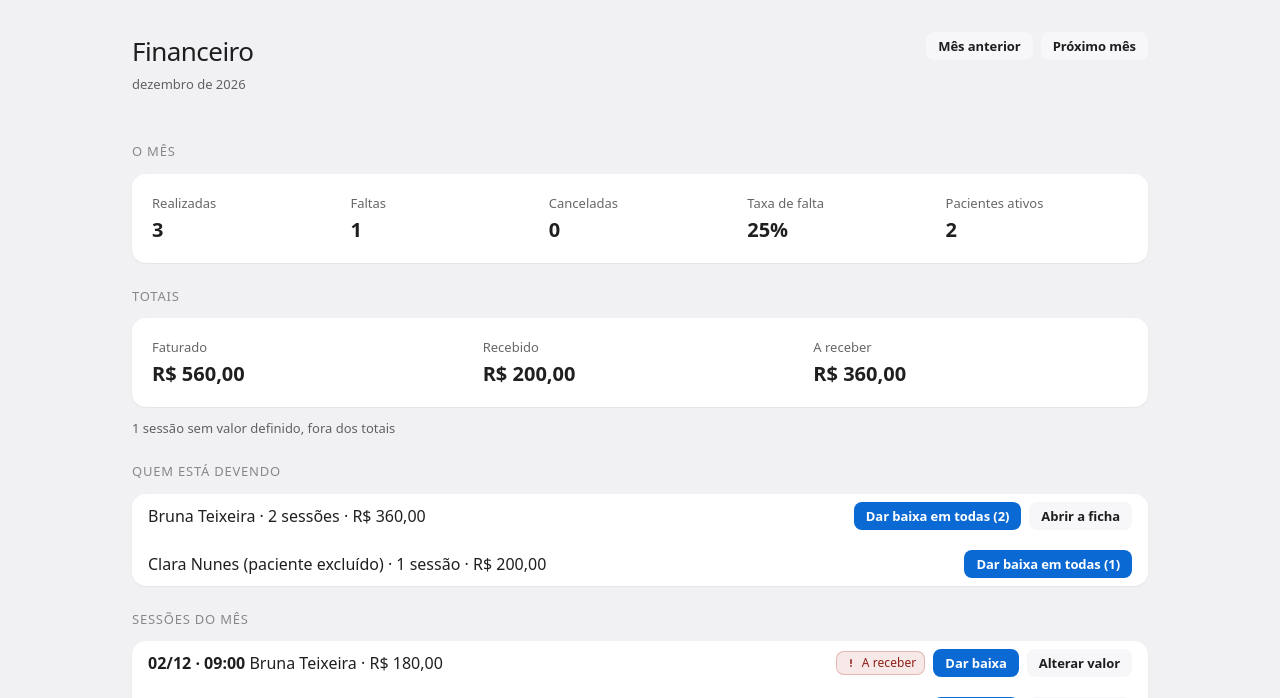
Test: tela Financeiro › dar baixa em todas manda o lote e anuncia
Step 1. Click the button "Dar baixa em todas (2)" → coordinates (938, 516), box x1=854 y1=502 x2=1021 y2=530
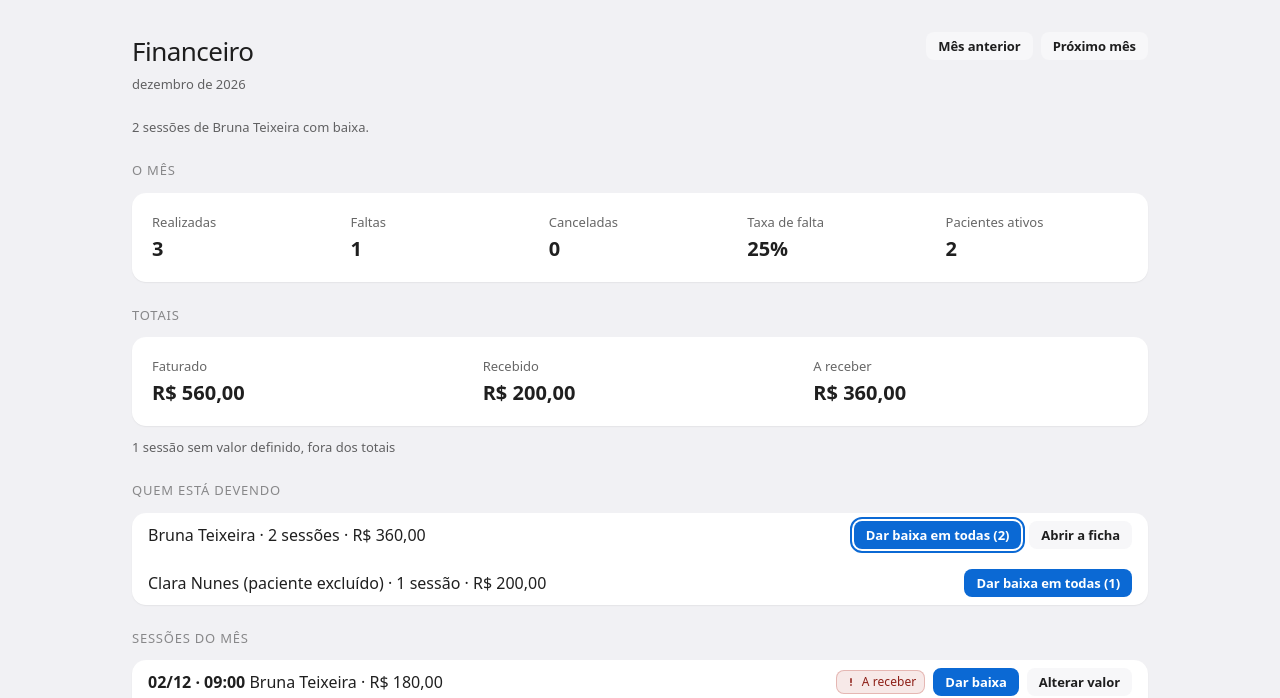
Now the message reads "2 sessões de Bruna Teixeira com baixa.", box x1=132 y1=118 x2=369 y2=136
